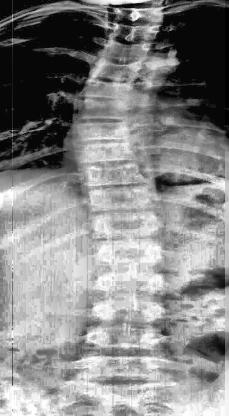Vertebrae: (73, 354, 169, 390), (88, 322, 172, 362), (84, 183, 154, 216), (90, 240, 162, 272), (91, 210, 161, 242), (89, 295, 163, 325), (89, 270, 162, 300), (75, 160, 147, 190), (72, 140, 136, 166), (73, 118, 135, 142), (78, 80, 138, 102), (77, 96, 129, 121), (98, 39, 152, 63), (89, 58, 143, 82), (107, 20, 159, 42), (108, 7, 165, 26)
